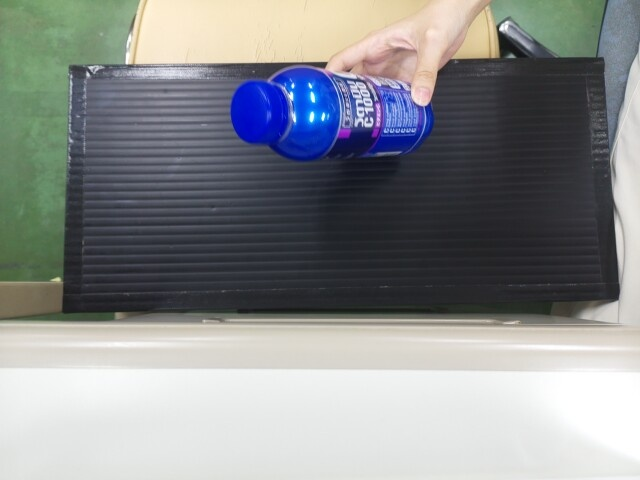plastic_bottle: (236, 63, 432, 157)
